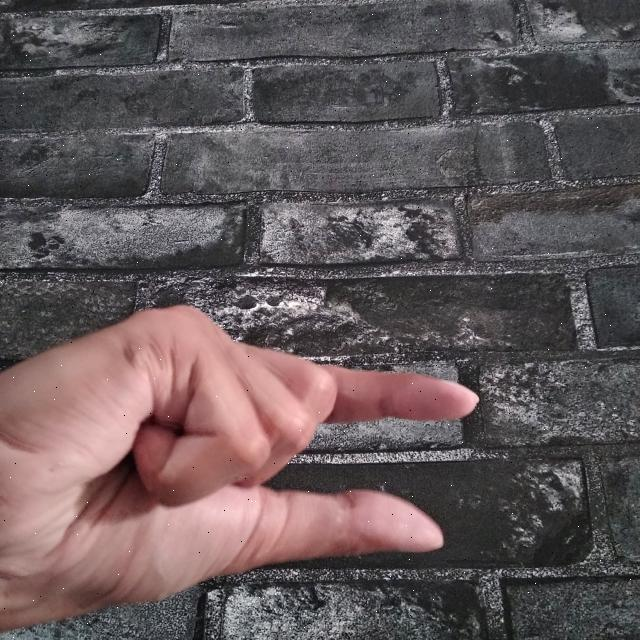G: (0, 304, 482, 631)
